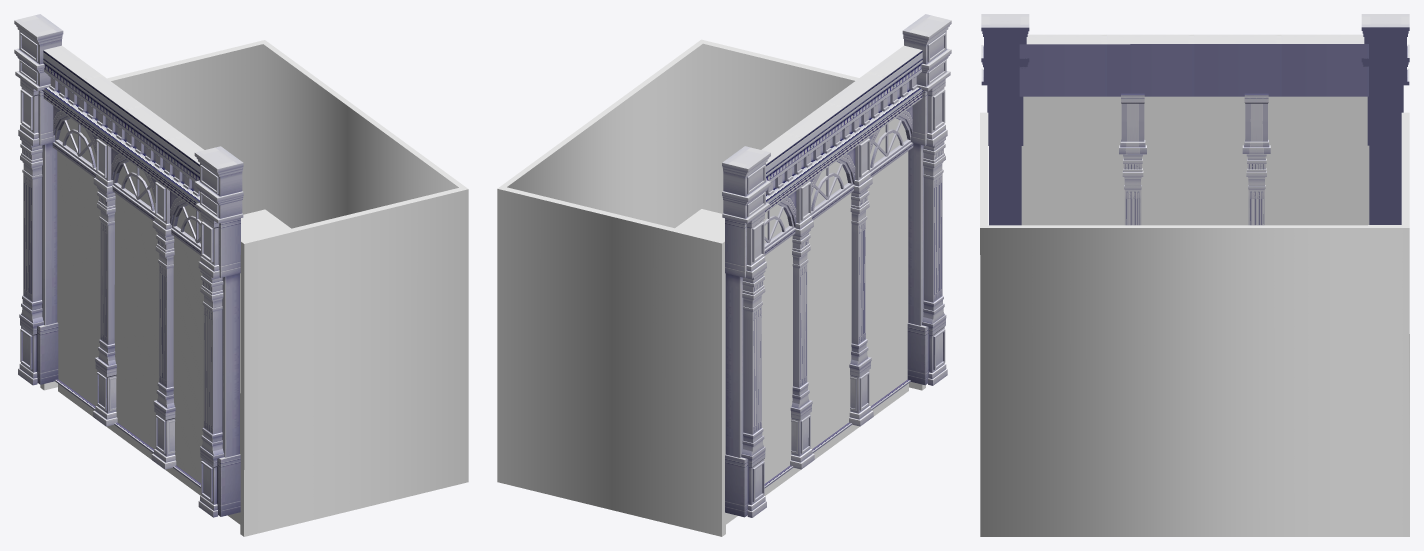
The model's file is my_gehennaparty_01_balcony_01.glb.
The picture shows the model from 3 angles, left to right: view 1: azimuth 30°, elevation 25°; view 2: azimuth 150°, elevation 25°; view 3: azimuth 270°, elevation 25°; orthographic projection. The views are drawn at different scales.
Parts seen in each view (by area): view 1: my_gehennaparty_01_balcony_01_cover, my_gehennaparty_01_balcony_01, my_gehennaparty_01_balcony_01_hole; view 2: my_gehennaparty_01_balcony_01_cover, my_gehennaparty_01_balcony_01, my_gehennaparty_01_balcony_01_hole; view 3: my_gehennaparty_01_balcony_01_cover, my_gehennaparty_01_balcony_01, my_gehennaparty_01_balcony_01_hole.
Boxes of the visible parts, x1,y1,x2,y2 form: my_gehennaparty_01_balcony_01_cover: [40, 40, 468, 536]; my_gehennaparty_01_balcony_01: [14, 14, 243, 517]; my_gehennaparty_01_balcony_01_hole: [57, 118, 203, 483]; my_gehennaparty_01_balcony_01_cover: [497, 39, 925, 536]; my_gehennaparty_01_balcony_01: [722, 14, 951, 517]; my_gehennaparty_01_balcony_01_hole: [761, 118, 908, 483]; my_gehennaparty_01_balcony_01_cover: [980, 112, 1409, 536]; my_gehennaparty_01_balcony_01: [981, 14, 1409, 225]; my_gehennaparty_01_balcony_01_hole: [1021, 96, 1369, 225].
Bounding box in the file's own units: 0.035 × 0.0498 × 0.0493.
6 materials, 4 textured.
